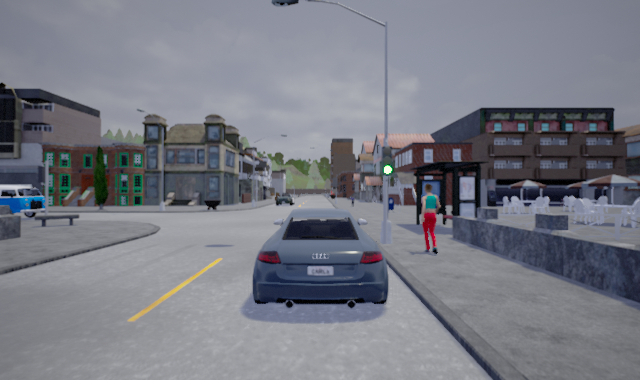pedestrian: (412, 182, 447, 256)
traffic_light: (380, 142, 396, 176)
vehicle: (250, 211, 390, 309), (1, 184, 46, 220), (275, 192, 295, 206)
